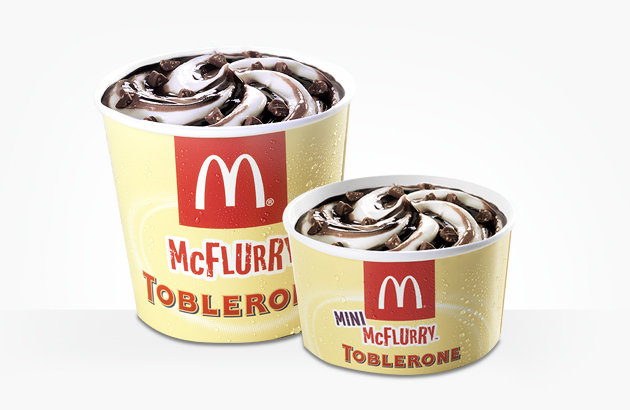mcdonalds: (186, 149, 271, 215), (367, 269, 425, 316)
